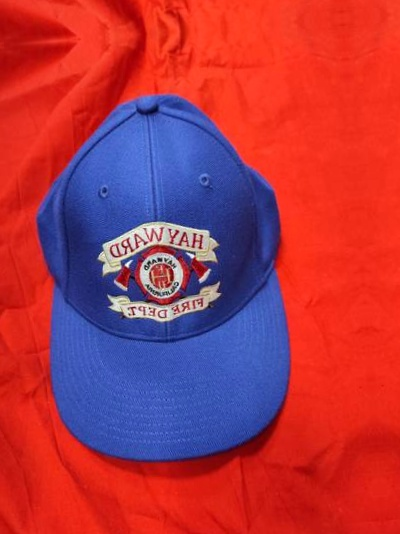Hat: (0, 48, 319, 480), (0, 0, 282, 19)
